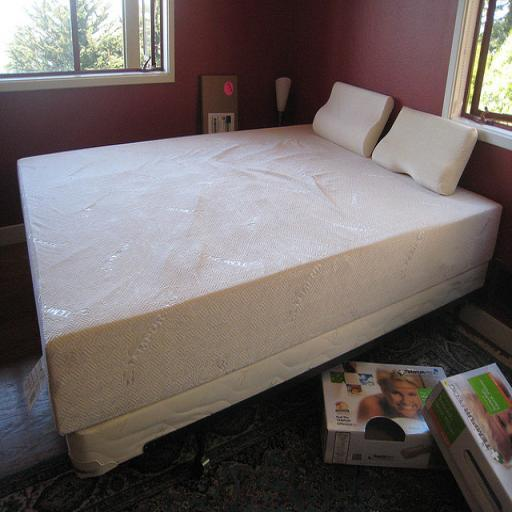bed: (9, 54, 512, 418)
